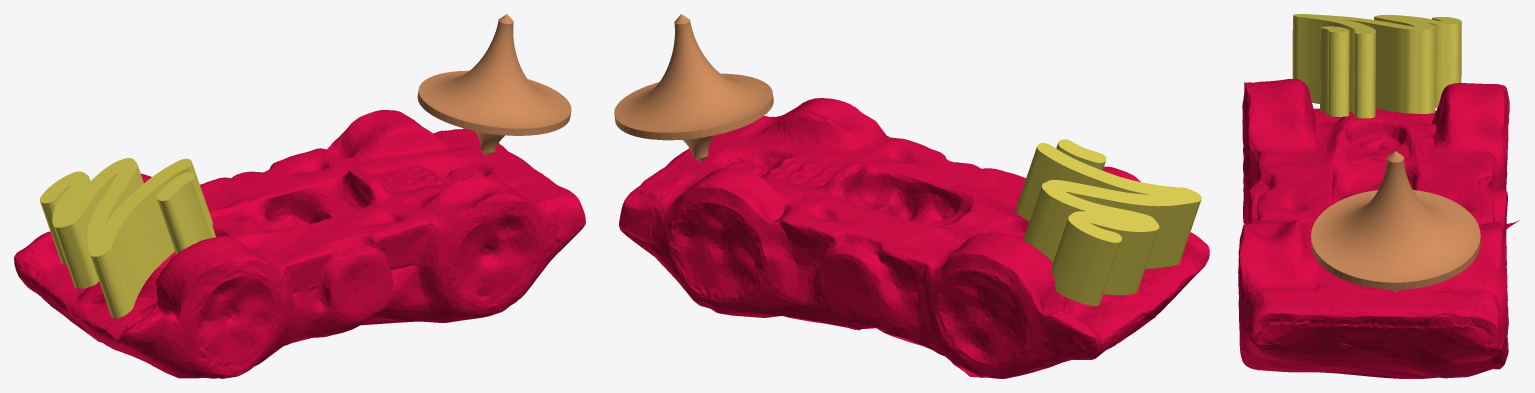
Rendered from tinker_scene.glb.
The picture shows the model from 3 angles, left to right: view 1: azimuth 30°, elevation 25°; view 2: azimuth 150°, elevation 25°; view 3: azimuth 270°, elevation 25°; orthographic projection. The views are drawn at different scales.
Parts seen in each view (by area): view 1: Mesh_Mesh_head_geo.001_lambert2SG.001; view 2: Mesh_Mesh_head_geo.001_lambert2SG.001; view 3: Mesh_Mesh_head_geo.001_lambert2SG.001.
Part boxes in pixels (box(x1,y1,x2,y2)): Mesh_Mesh_head_geo.001_lambert2SG.001: box(14, 14, 585, 378); Mesh_Mesh_head_geo.001_lambert2SG.001: box(614, 14, 1209, 378); Mesh_Mesh_head_geo.001_lambert2SG.001: box(1238, 14, 1519, 378).
Bounding box in the file's own units: 0.0767 × 0.034 × 0.0333.
